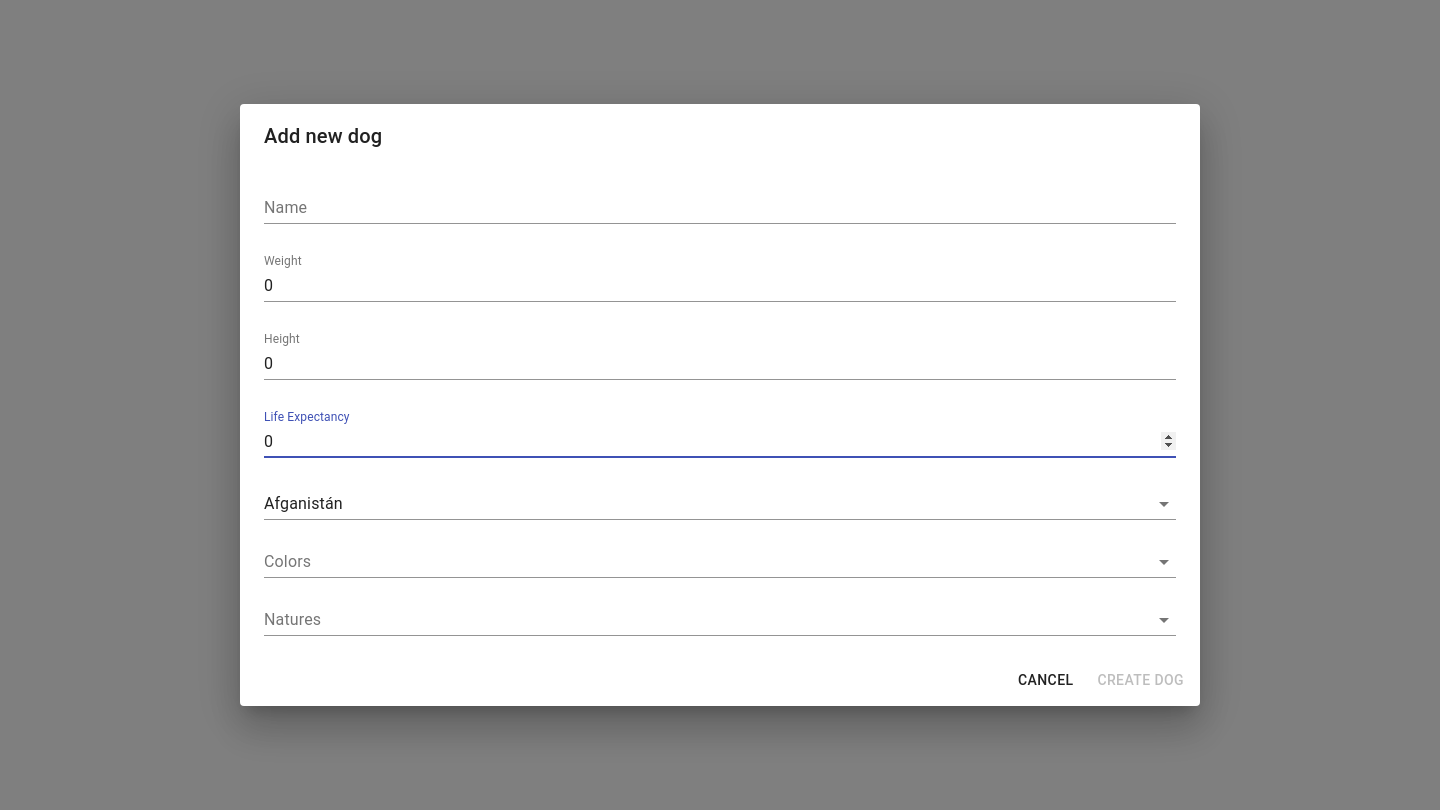
Error cases, field validations Add Dialog Form › Should show error message when natures length is less than 1
Type "Intelligent" into the field labelled "Natures" at point(692, 619), box top-left (264, 604), bottom-right (1120, 635)
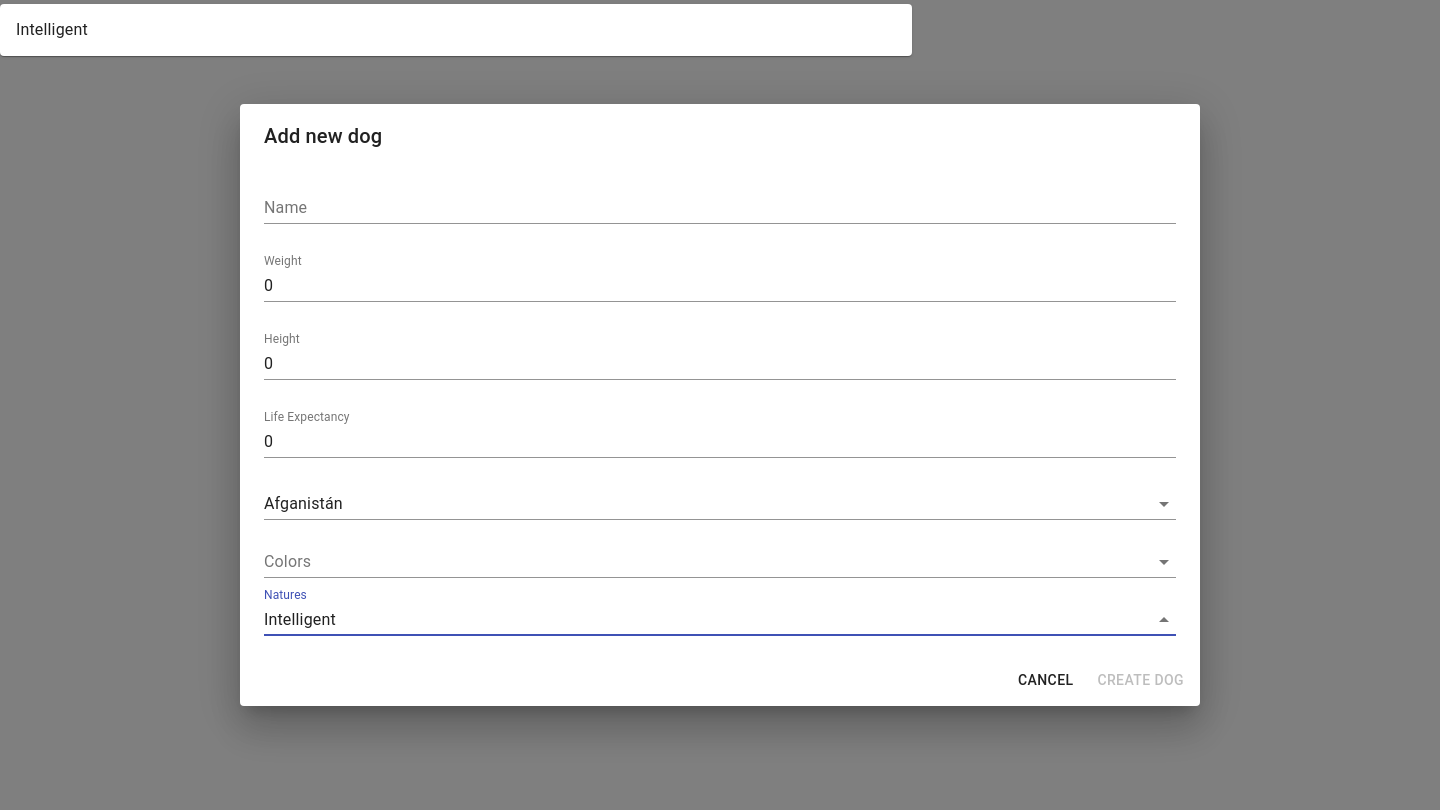
Click the option "Intelligent" at point(52, 30), box top-left (16, 20), bottom-right (88, 39)
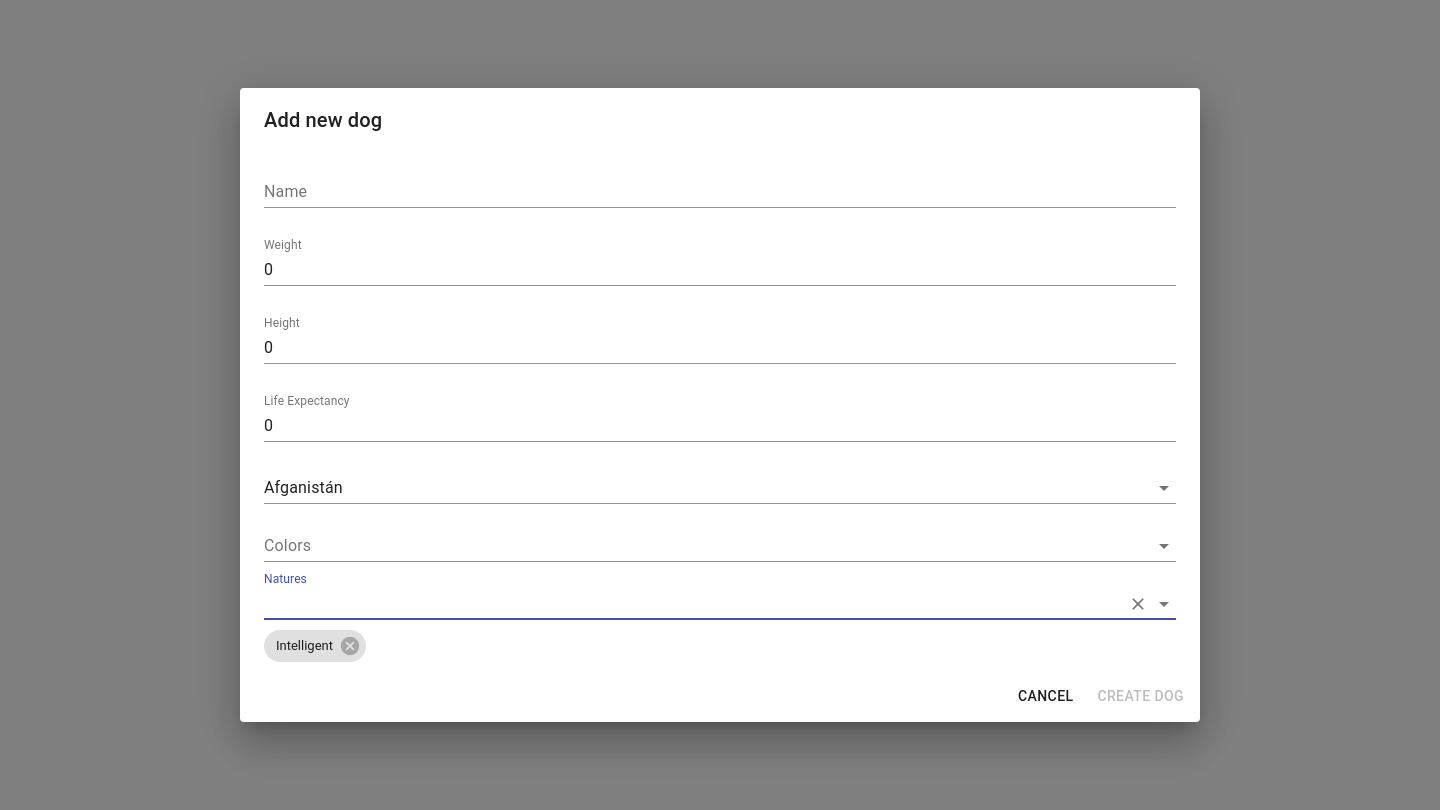
Expected: the button with test id "e2e-nature-chip-Intelligent" is shown, top-left (264, 630), bottom-right (366, 662)
Expected: the icon with test id "e2e-delete-nature-Intelligent" is shown
Click the icon with test id "e2e-delete-nature-Intelligent" at point(350, 646), box top-left (339, 635), bottom-right (361, 657)
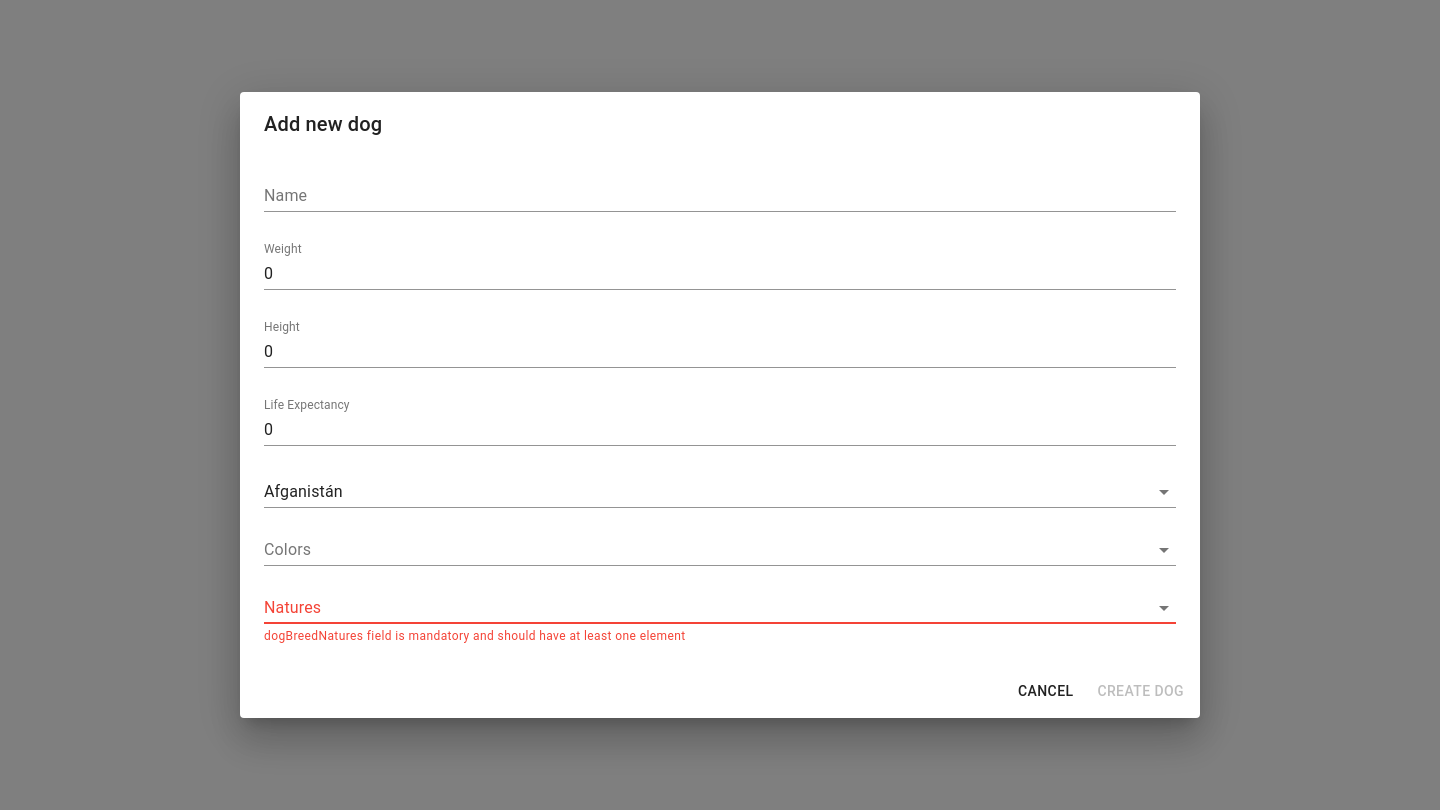
Expected: the button with test id "e2e-nature-chip-Intelligent" is gone
Expected: the text "dogBreedNatures field is mandatory and should have at least one element" is shown, top-left (264, 629), bottom-right (686, 643)
Type "Intelligent" into the field labelled "Natures" at point(692, 608), box top-left (264, 592), bottom-right (1120, 623)
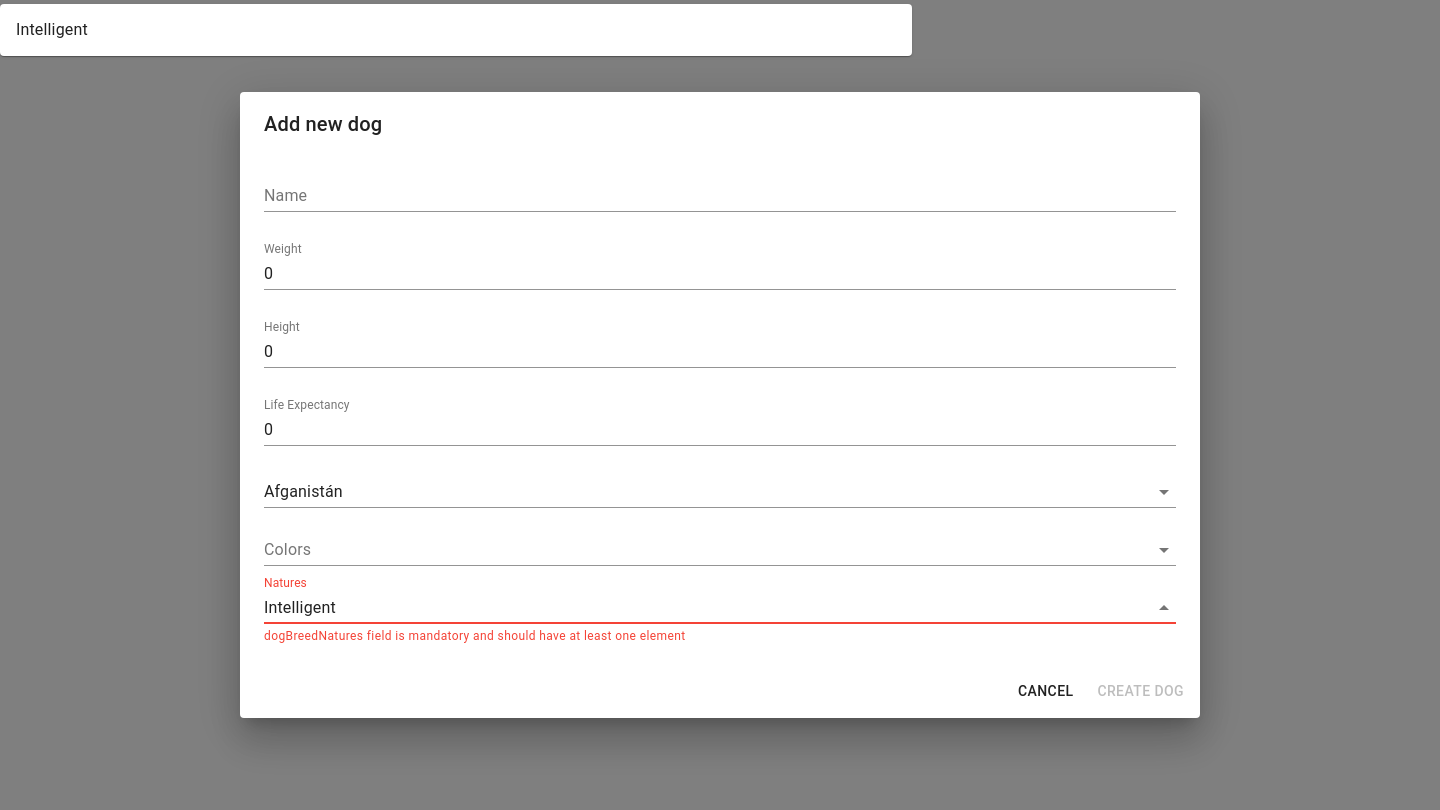
Click the option "Intelligent" at point(52, 30), box top-left (16, 20), bottom-right (88, 39)
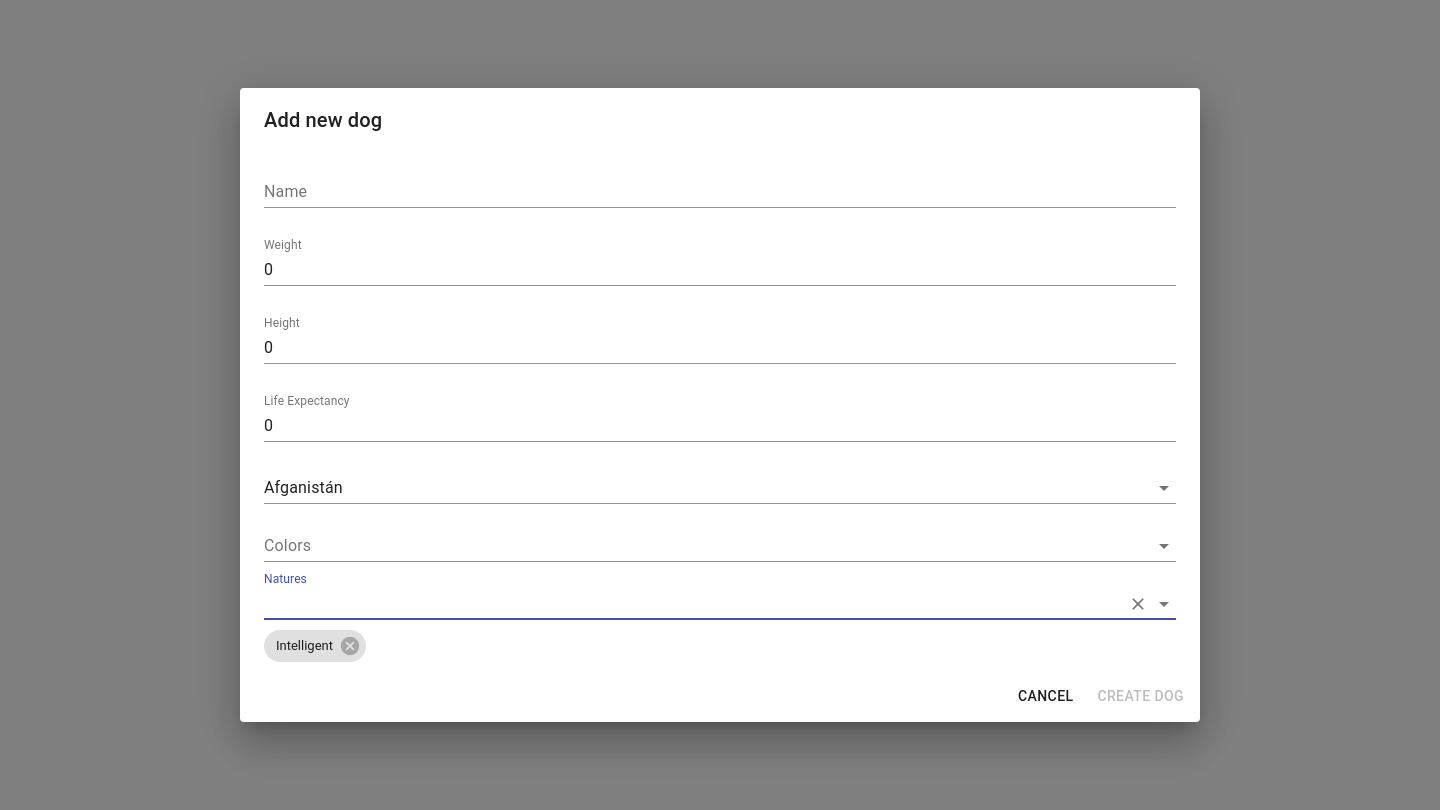
Expected: the text "dogBreedNatures field is mandatory and should have at least one element" is gone
